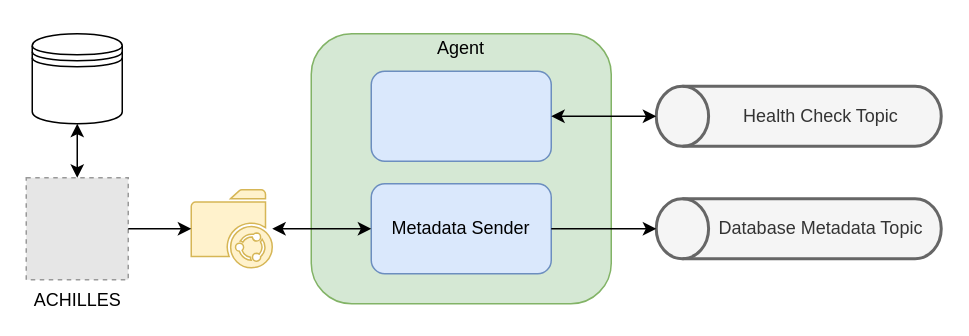
The diagram is 969 pixels wide and 336 high, and some of its shapes have lost their labels. Grey dashed boxes stand in for pictures. Each missing label, with the centre of its shape:
"CDM" goes at (76,78).
"Health Check Replier" goes at (460,115).
